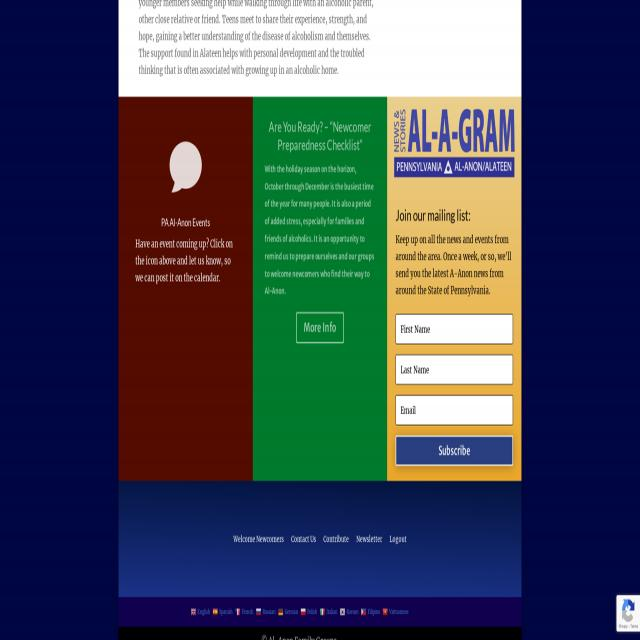button: (394, 109, 514, 177), (395, 435, 513, 466), (170, 139, 202, 198), (297, 313, 343, 344), (616, 594, 640, 630), (190, 607, 196, 617), (212, 607, 218, 617), (300, 607, 306, 617), (319, 607, 325, 617), (339, 607, 345, 617), (382, 607, 388, 617), (235, 607, 240, 617), (256, 607, 261, 617), (278, 607, 283, 617), (361, 607, 366, 617)
field: (395, 354, 513, 385), (395, 314, 513, 344), (395, 395, 513, 425)
